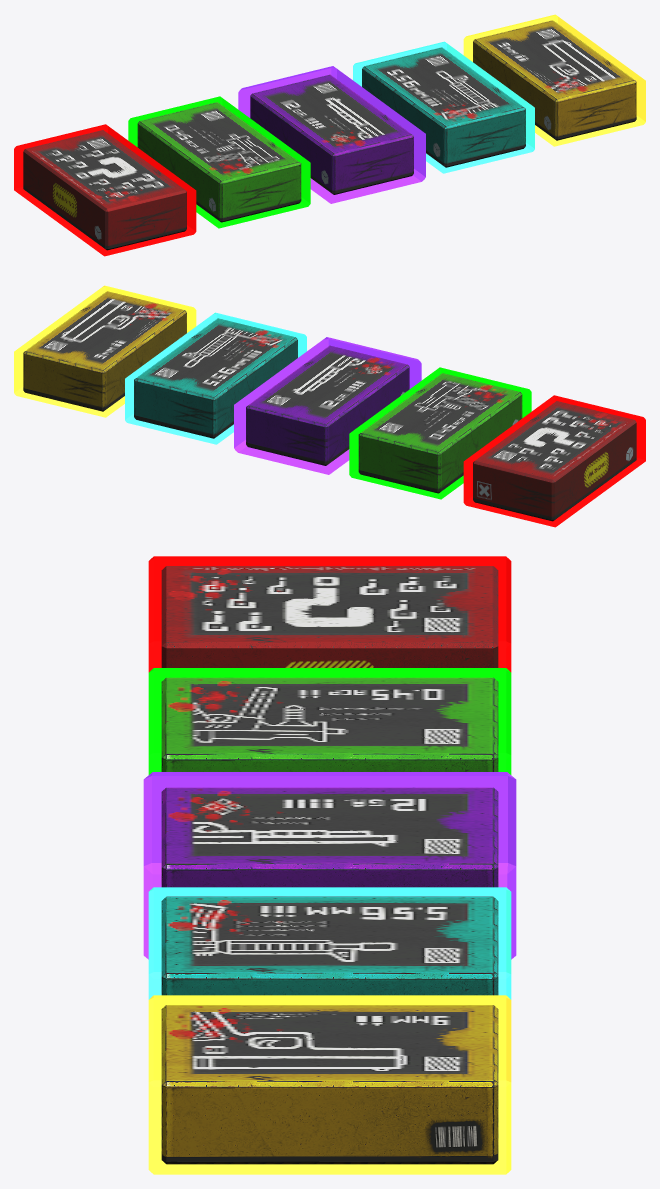
File: ammo_boxes__toon_-_style.glb
3 views of the same model, one above another, from view 1: azimuth 30°, elevation 25°; view 2: azimuth 150°, elevation 25°; view 3: azimuth 270°, elevation 25° (orthographic). The views are drawn at different scales.
Visible parts, largest first — view 1: SP__Ammo_Box:pCube1, SMG__Ammo_Box:pCube1, SH__Ammo_Box:pCube1, S__Ammo_Box:pCube1, P__Ammo_Box:pCube1, SH__Ammo_Box:Outline, SP__Ammo_Box:Outline, SMG__Ammo_Box:Outline, S__Ammo_Box:Outline, P__Ammo_Box:Outline; view 2: SP__Ammo_Box:pCube1, SMG__Ammo_Box:pCube1, SH__Ammo_Box:pCube1, S__Ammo_Box:pCube1, P__Ammo_Box:pCube1, SH__Ammo_Box:Outline, SP__Ammo_Box:Outline, SMG__Ammo_Box:Outline, S__Ammo_Box:Outline, P__Ammo_Box:Outline; view 3: S__Ammo_Box:pCube1, SP__Ammo_Box:pCube1, SH__Ammo_Box:pCube1, P__Ammo_Box:pCube1, SMG__Ammo_Box:pCube1, S__Ammo_Box:Outline, SH__Ammo_Box:Outline, SP__Ammo_Box:Outline, P__Ammo_Box:Outline, SMG__Ammo_Box:Outline.
Part boxes in pixels (x1,y1,x2,y2): SP__Ammo_Box:pCube1: (23,130,186,250); SMG__Ammo_Box:pCube1: (137,102,301,222); SH__Ammo_Box:pCube1: (250,74,413,194); S__Ammo_Box:pCube1: (473,20,636,140); P__Ammo_Box:pCube1: (362,47,525,167); SH__Ammo_Box:Outline: (238,66,425,203); SP__Ammo_Box:Outline: (14,124,196,256); SMG__Ammo_Box:Outline: (128,96,310,228); S__Ammo_Box:Outline: (463,14,645,146); P__Ammo_Box:Outline: (353,41,534,173); SP__Ammo_Box:pCube1: (473,401,636,521); SMG__Ammo_Box:pCube1: (358,373,522,493); SH__Ammo_Box:pCube1: (246,345,409,465); S__Ammo_Box:pCube1: (23,291,186,411); P__Ammo_Box:pCube1: (134,318,297,438); SH__Ammo_Box:Outline: (234,337,421,474); SP__Ammo_Box:Outline: (463,395,645,527); SMG__Ammo_Box:Outline: (349,367,531,499); S__Ammo_Box:Outline: (14,285,196,417); P__Ammo_Box:Outline: (125,312,306,444); S__Ammo_Box:pCube1: (161,1005,498,1164); SP__Ammo_Box:pCube1: (161,566,498,667); SH__Ammo_Box:pCube1: (161,787,498,887); P__Ammo_Box:pCube1: (161,896,498,995); SMG__Ammo_Box:pCube1: (161,677,498,771); S__Ammo_Box:Outline: (148,995,511,1174); SH__Ammo_Box:Outline: (143,772,516,959); SP__Ammo_Box:Outline: (148,556,511,672); P__Ammo_Box:Outline: (148,887,511,999); SMG__Ammo_Box:Outline: (148,668,511,774).
Bounding box in the file's own units: 0.7428 × 0.0666 × 0.2204.
Materials: 10 (5 with a texture image).
